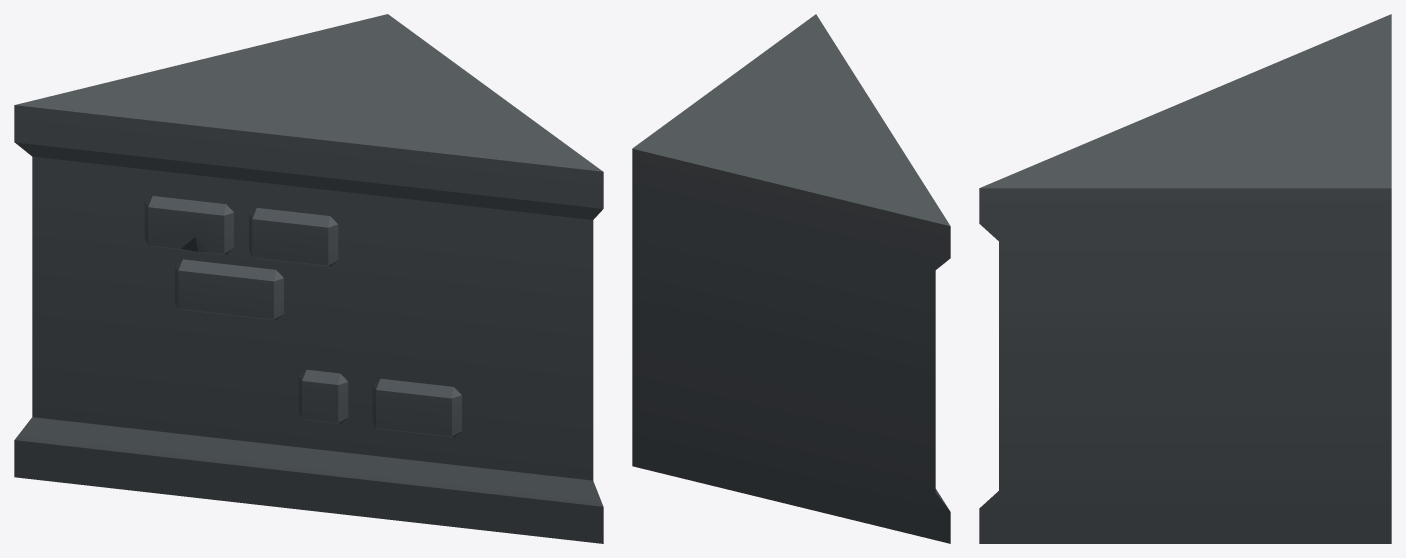
File: kaykit-dungeon-remastered-floor-foundation-diagonal-corner-gltf.glb
3 views of the same model, side by side, from view 1: azimuth 30°, elevation 25°; view 2: azimuth 150°, elevation 25°; view 3: azimuth 270°, elevation 25° (orthographic). The views are drawn at different scales.
Parts seen in each view (by area): view 1: floor_foundation_diagonal_corner; view 2: floor_foundation_diagonal_corner; view 3: floor_foundation_diagonal_corner.
Boxes of the visible parts, x1,y1,x2,y2 form: floor_foundation_diagonal_corner: [14, 14, 603, 543]; floor_foundation_diagonal_corner: [632, 14, 950, 543]; floor_foundation_diagonal_corner: [979, 14, 1391, 543].
Bounding box in the file's own units: 2.1 × 2 × 2.1.
1 material, 1 textured.
